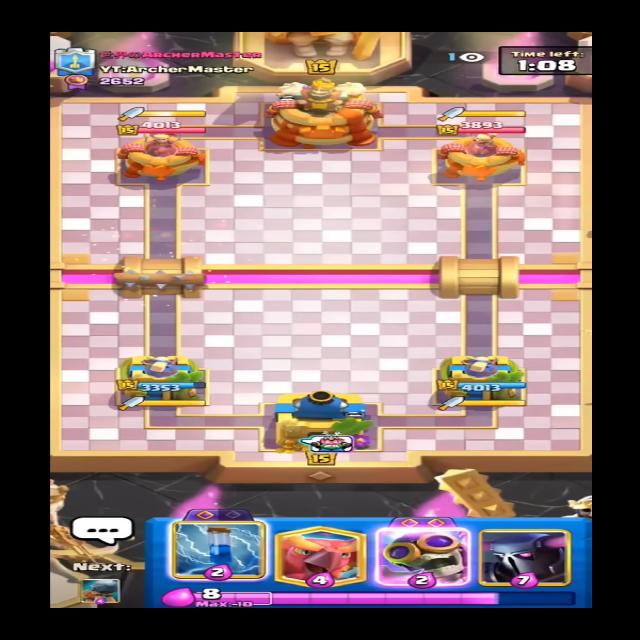log: (92, 266, 216, 294)
